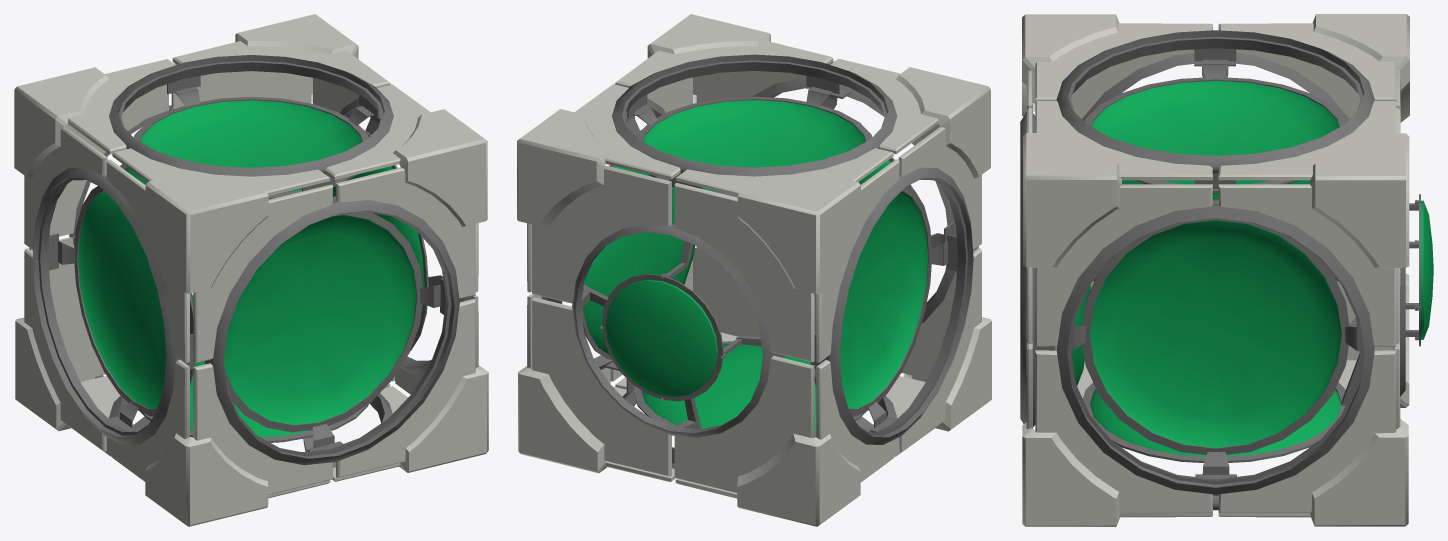
File: laser_cube.glb
3 renders of one model, left to right at view 1: azimuth 30°, elevation 25°; view 2: azimuth 150°, elevation 25°; view 3: azimuth 270°, elevation 25°, orthographic. The views are drawn at different scales.
Parts seen in each view (by area): view 1: interactive; view 2: interactive; view 3: interactive.
Boxes of the visible parts, x1=… form: interactive: x1=14, y1=14, x2=488, y2=526; interactive: x1=517, y1=14, x2=991, y2=526; interactive: x1=1020, y1=14, x2=1433, y2=526.
Bounding box in the file's own units: 0.6002 × 0.6002 × 0.6347.
1 material, 1 textured.
